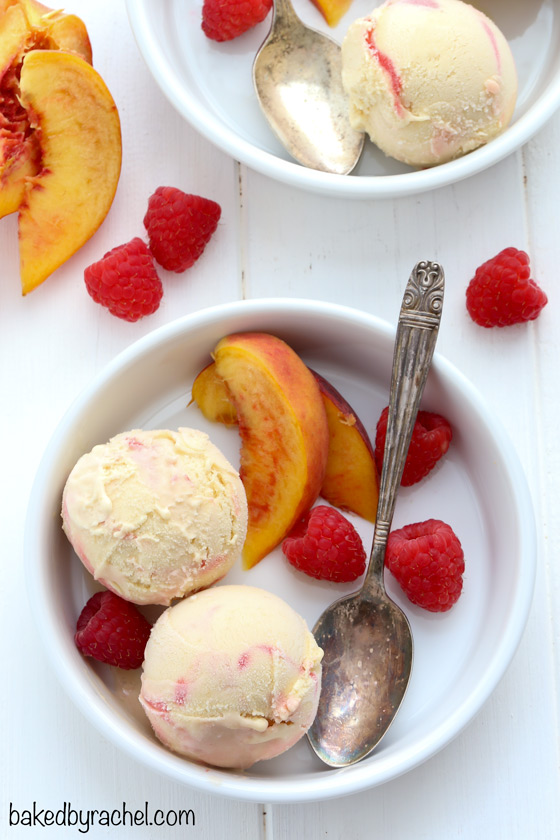ice-cream: (142, 587, 326, 766), (62, 428, 248, 603), (339, 1, 517, 166)
